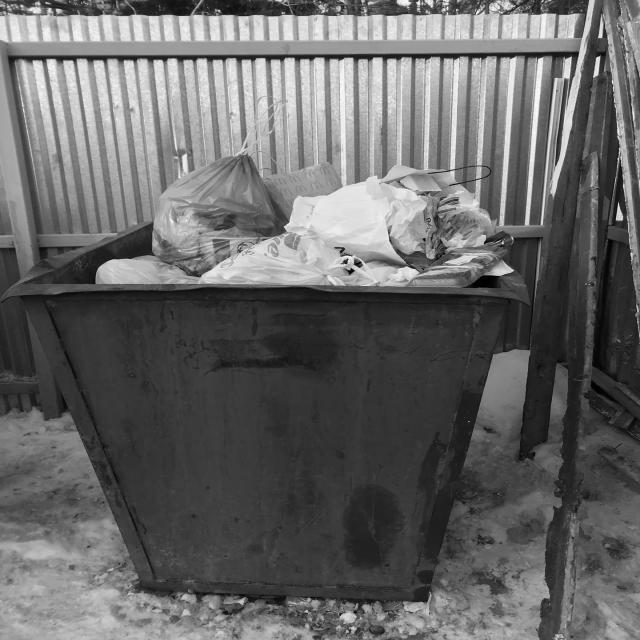bin: (10, 220, 518, 602)
plastic: (88, 152, 522, 285)
